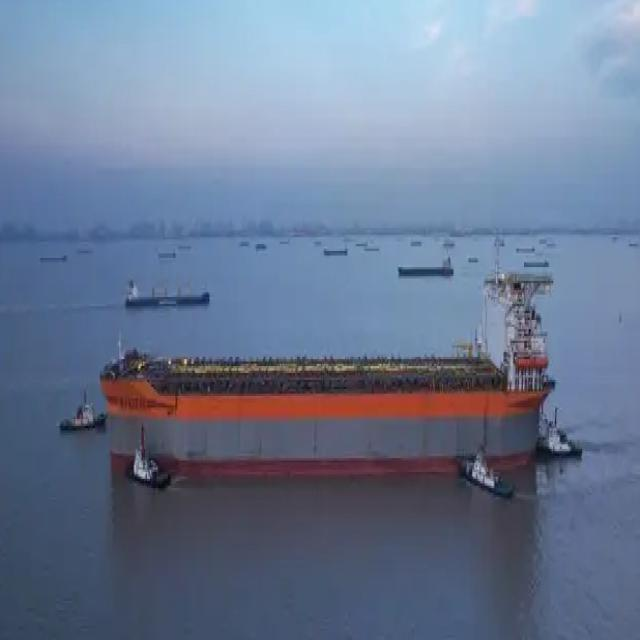cargoship: (102, 259, 547, 493), (116, 270, 214, 316), (396, 259, 458, 281)
fishing boat: (451, 425, 513, 499), (536, 393, 581, 459), (57, 389, 106, 445)
houseboat: (115, 412, 172, 482)
